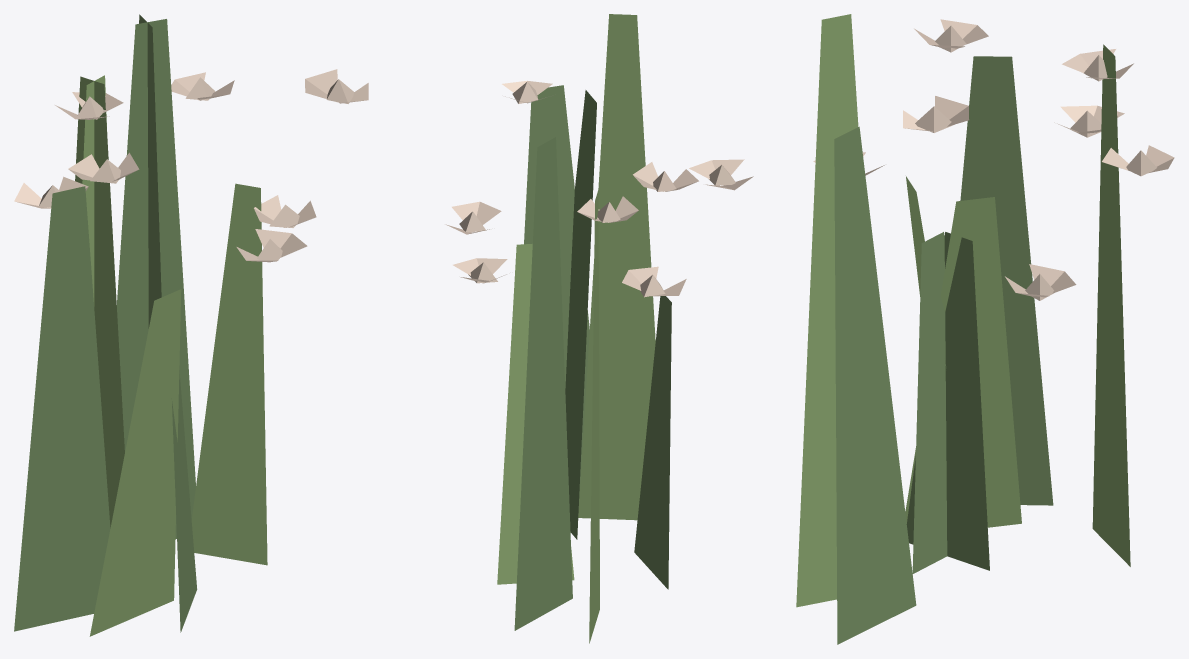
Rendered from nong.dao@flowering__spring.glb.
The picture shows the model from 3 angles, left to right: view 1: azimuth 30°, elevation 25°; view 2: azimuth 150°, elevation 25°; view 3: azimuth 270°, elevation 25°; orthographic projection. The views are drawn at different scales.
Visible parts, largest first — view 1: nong.dao@flowering__spring; view 2: nong.dao@flowering__spring; view 3: nong.dao@flowering__spring.
Part boxes in pixels (x1,y1,x2,y2): nong.dao@flowering__spring: (14, 14, 368, 636); nong.dao@flowering__spring: (445, 14, 753, 643); nong.dao@flowering__spring: (796, 14, 1174, 644).
Bounding box in the file's own units: 0.628 × 1.02 × 0.6056.
